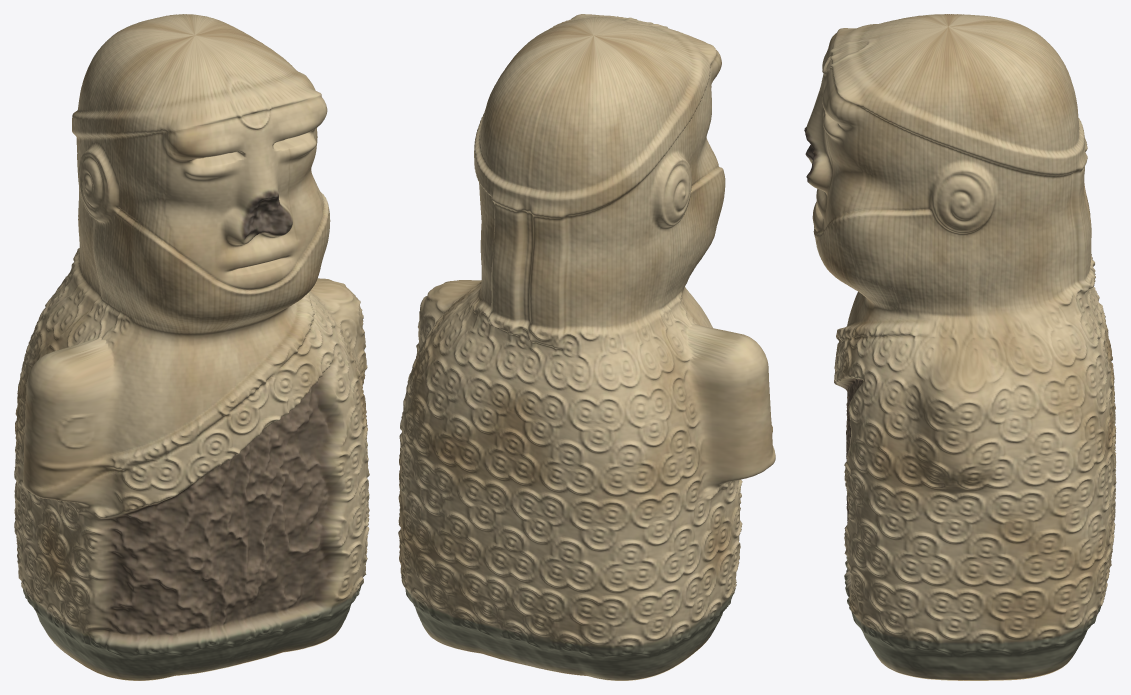
File: priest-king.glb
The picture shows the model from 3 angles, left to right: view 1: azimuth 30°, elevation 25°; view 2: azimuth 150°, elevation 25°; view 3: azimuth 270°, elevation 25°; orthographic projection. The views are drawn at different scales.
Visible parts, largest first — view 1: PriestKing; view 2: PriestKing; view 3: PriestKing.
Boxes of the visible parts, x1,y1,x2,y2 form: PriestKing: (14, 14, 369, 680); PriestKing: (398, 14, 775, 680); PriestKing: (804, 14, 1116, 680).
Size of the model in its own units: 0.1052 by 0.1758 by 0.0843.
1 material, 1 textured.
